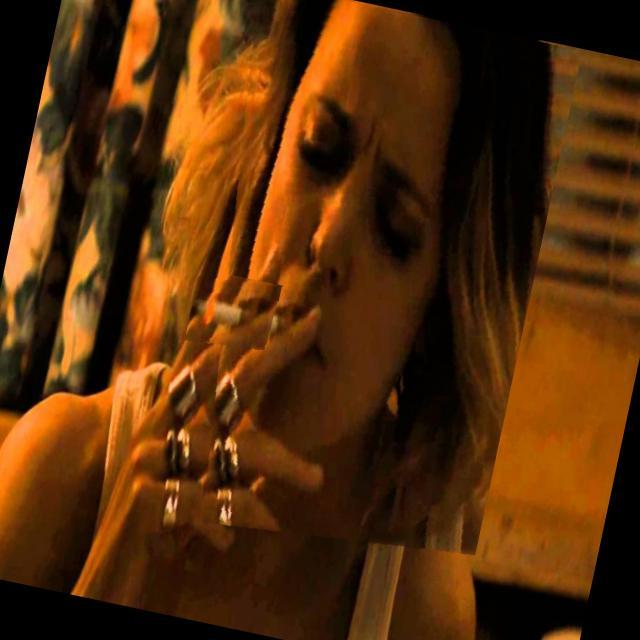cigarette: (184, 268, 282, 358)
